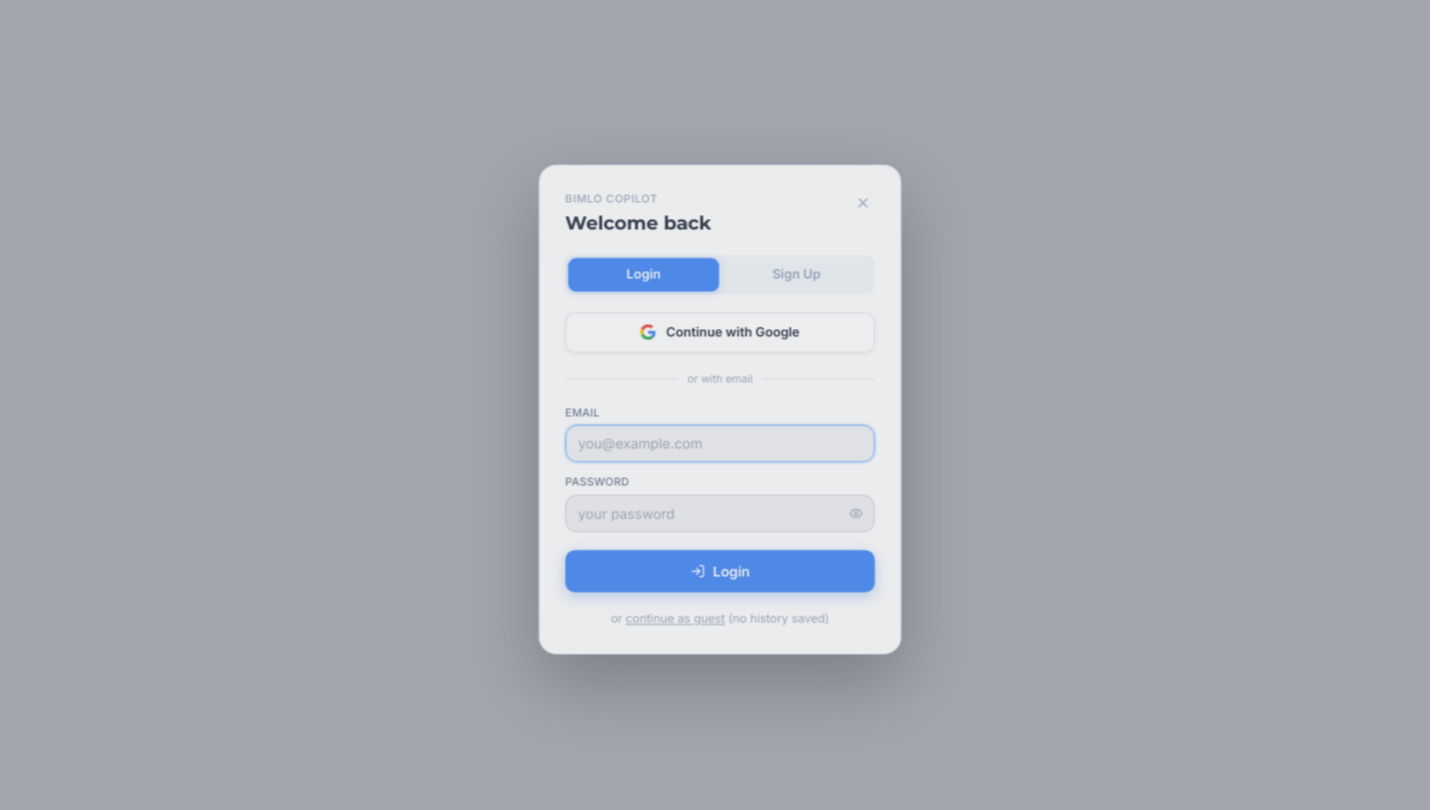
Scenario: AuthModal › shows error when submitting empty form
The image size is (1440, 810).
Click the 2nd button "Login" at {"x": 720, "y": 570}, box [565, 549, 875, 592]
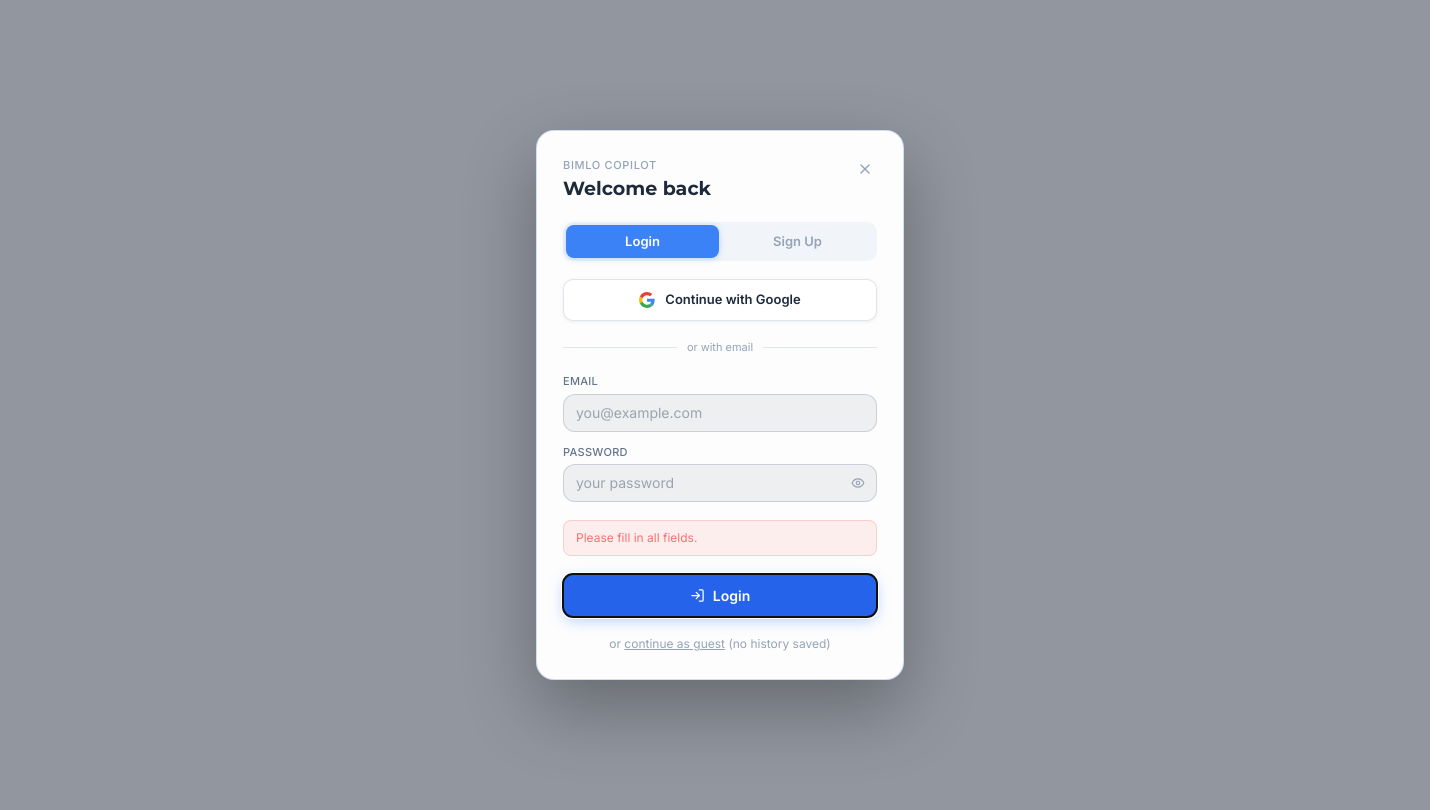
Check: the text "Please fill in all fields." is shown, box [563, 520, 877, 556]
